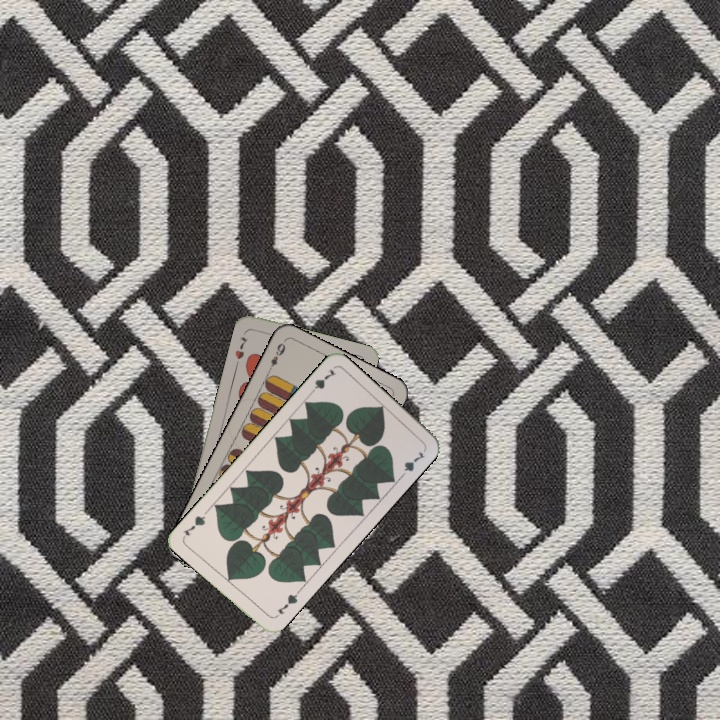E9: (264, 339, 288, 375)
G7: (305, 365, 339, 398), (273, 587, 302, 617)
H7: (231, 333, 250, 362)
